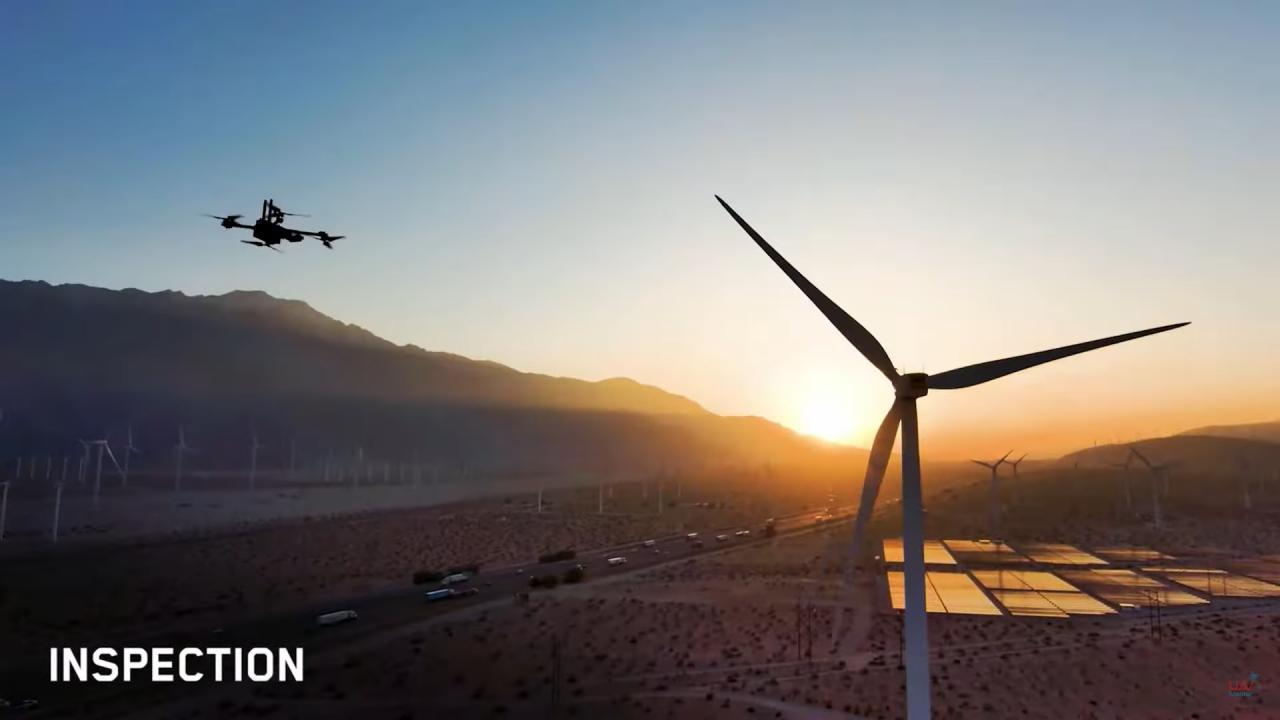Drone: (185, 186, 356, 264)
